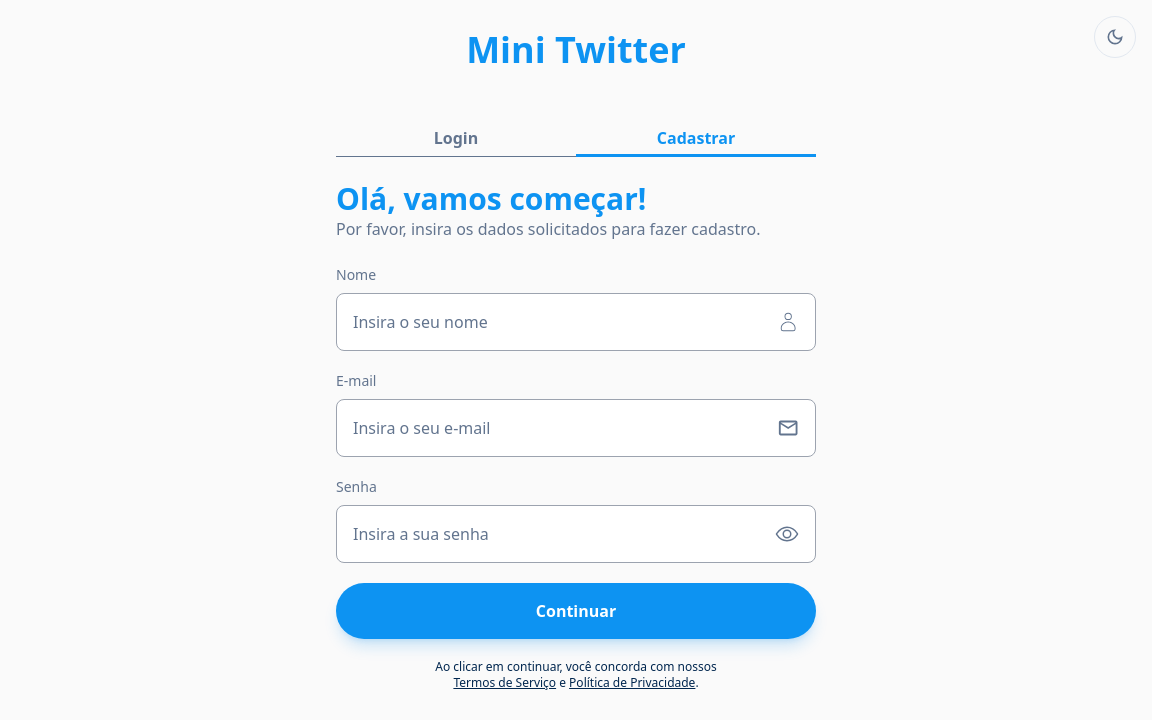
Register › exibe erro de validação com senha curta
The width and height of the screenshot is (1152, 720).
Type "João" into the field named "name" at (561,322), box [353, 310, 769, 334]
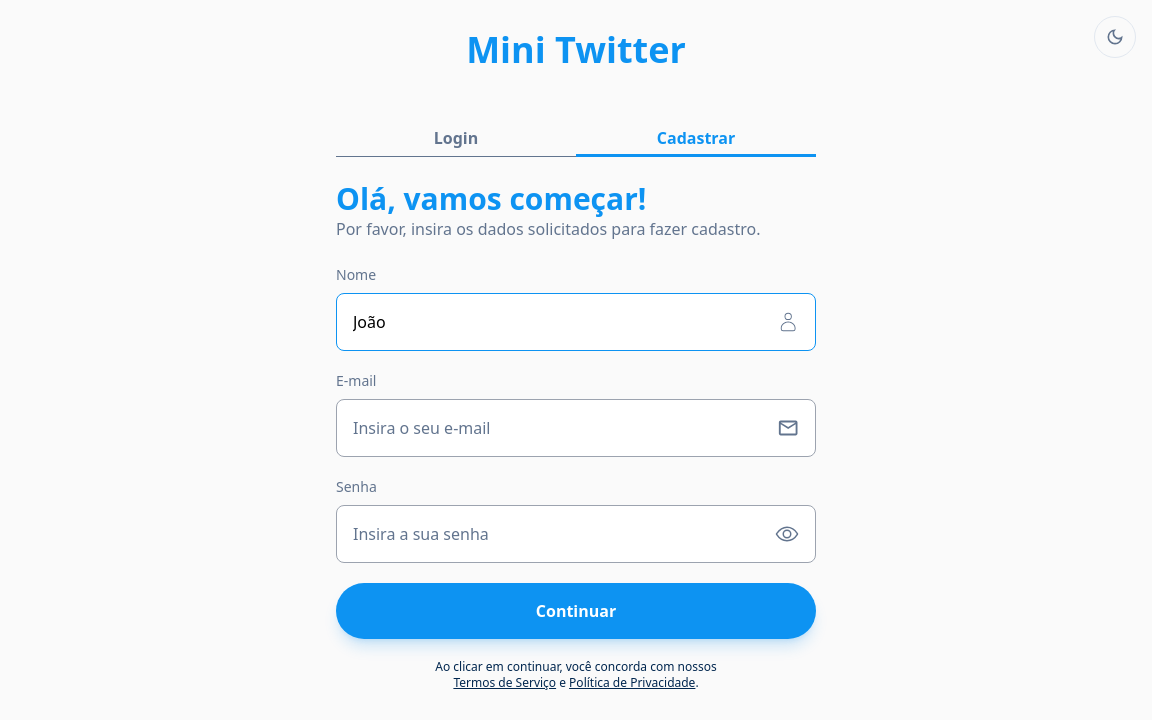
Type "joao@email.com" into the field named "email" at (561,428), box [353, 416, 769, 440]
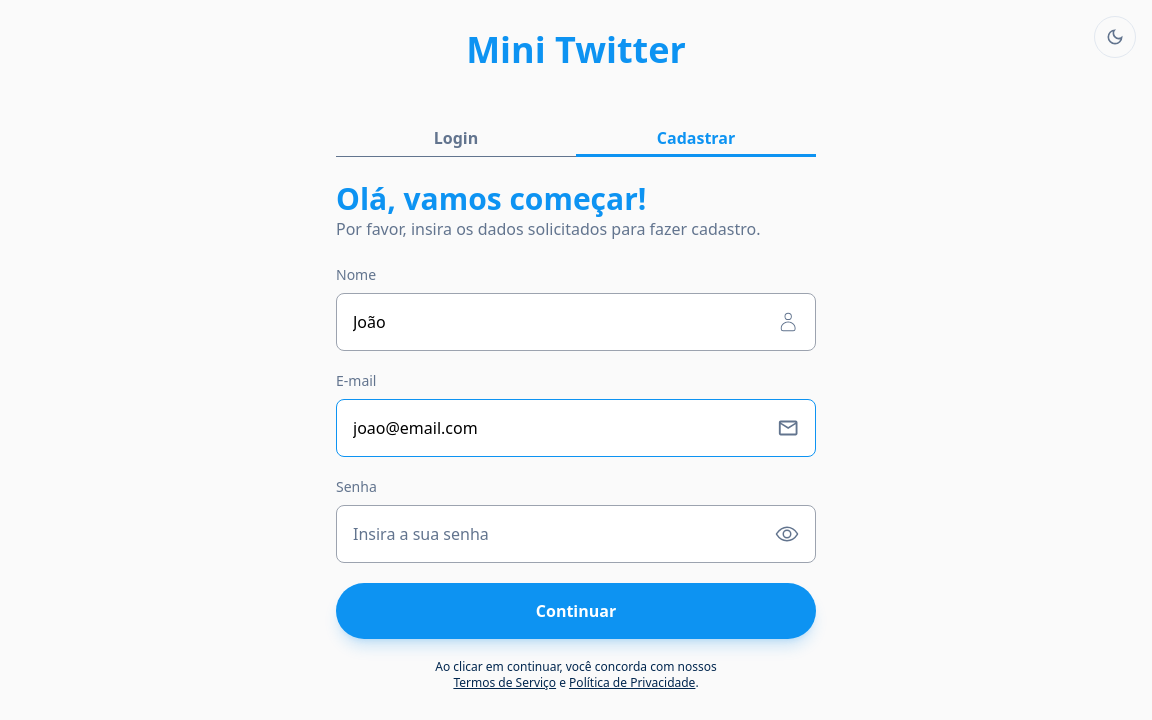
Type "123" into the password field named "password" at (560,534), box [353, 522, 767, 546]
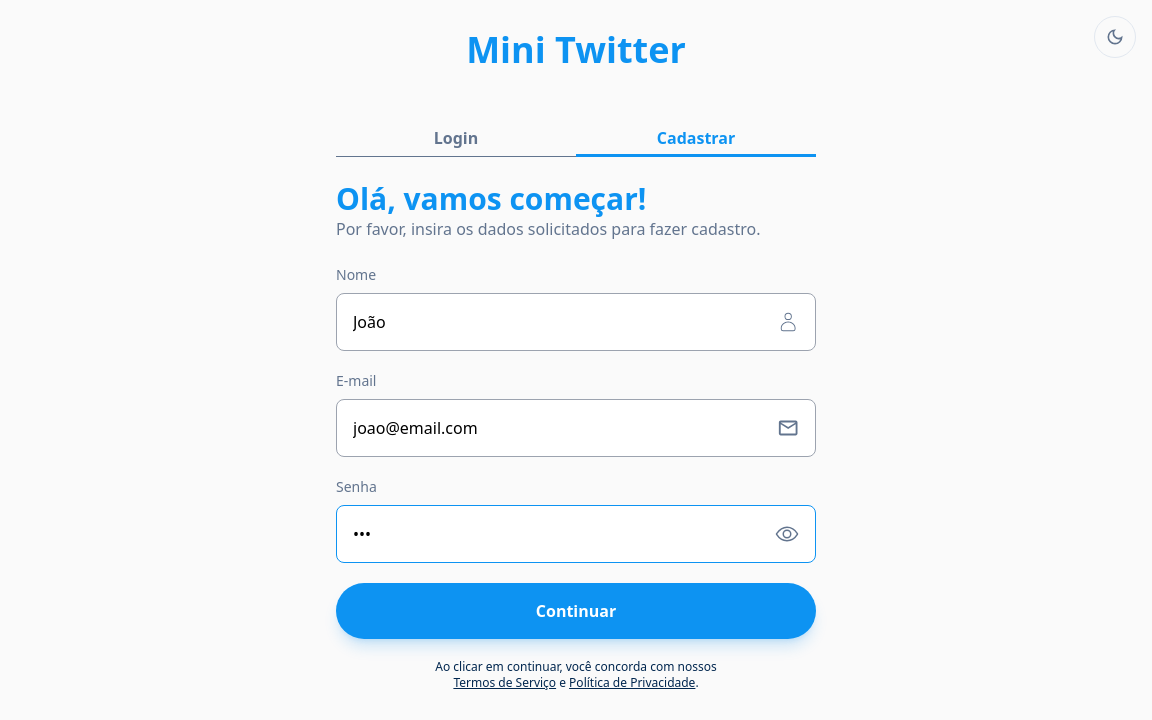
Click the submit button at (576,611), box [336, 583, 816, 639]
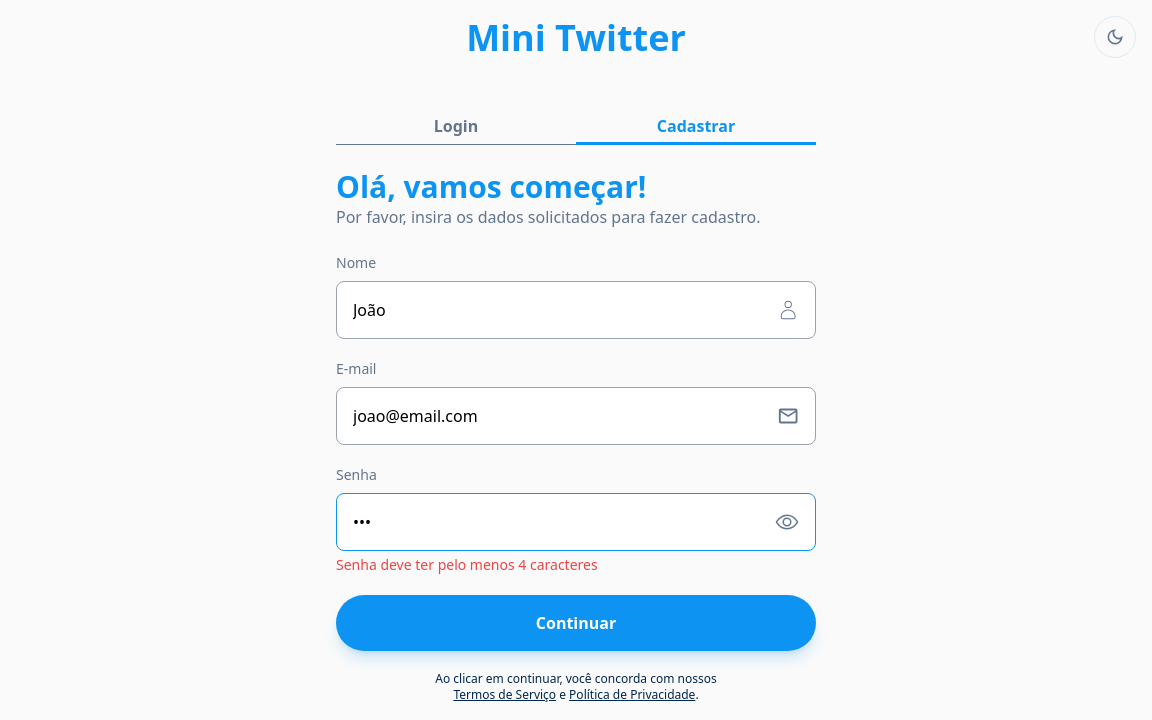
Check: the text "Senha deve ter pelo menos 4 caracteres" is shown, box [336, 554, 598, 574]
